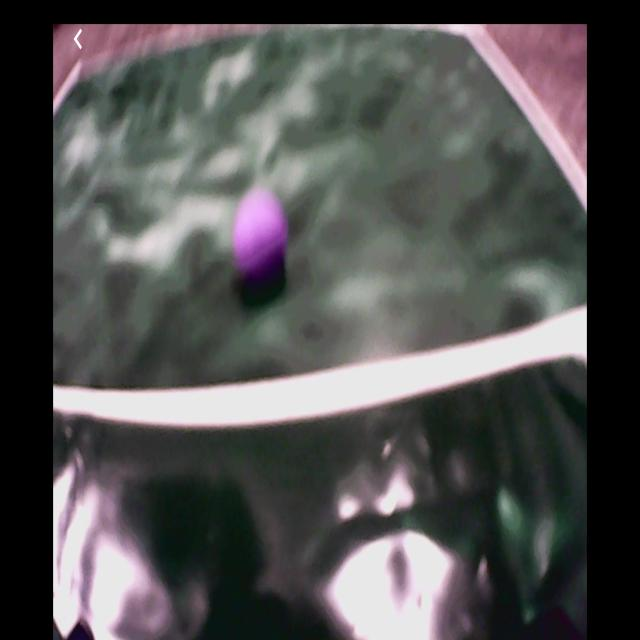ball: (235, 198, 289, 278)
